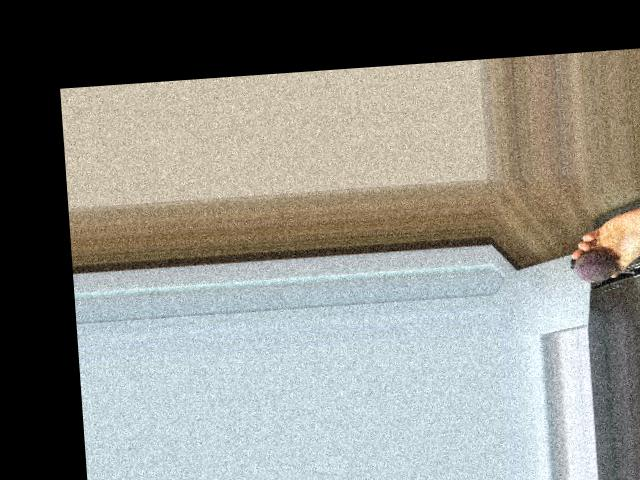beet: (568, 248, 634, 283)
